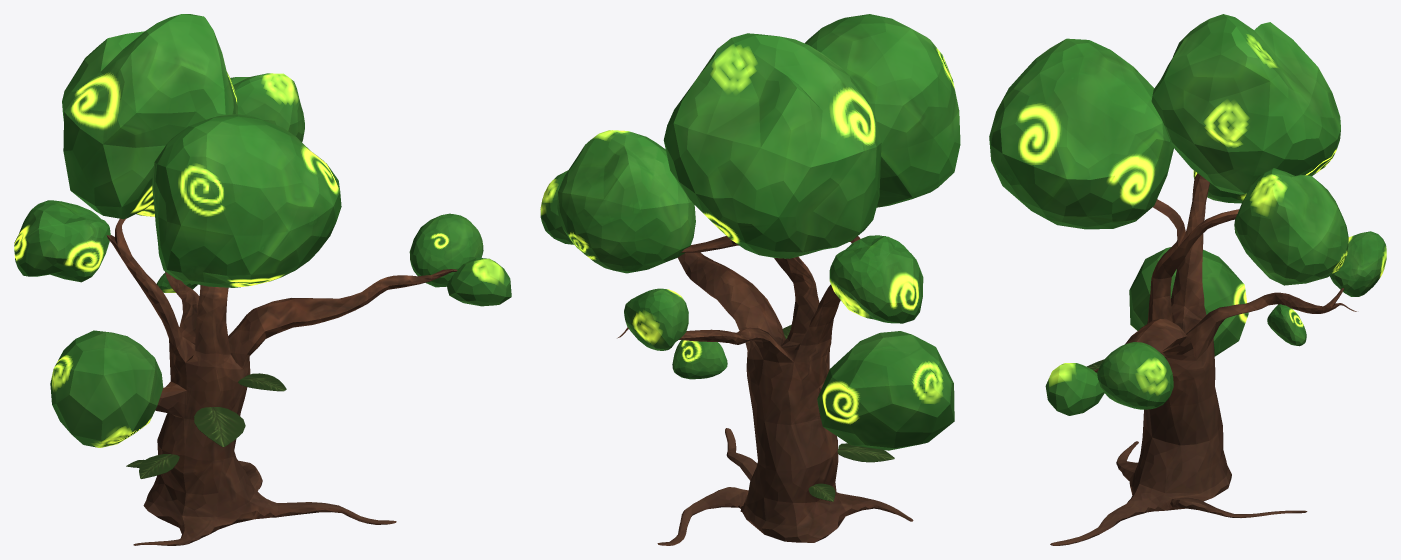
The model's file is fantasy_tree.glb.
3 renders of one model, left to right at view 1: azimuth 30°, elevation 25°; view 2: azimuth 150°, elevation 25°; view 3: azimuth 270°, elevation 25°, orthographic. The views are drawn at different scales.
Parts seen in each view (by area): view 1: Icosphere, Tree, Plane.003; view 2: Icosphere, Tree, Plane.003; view 3: Icosphere, Tree.
Boxes of the visible parts, x1=… form: Icosphere: x1=14, y1=14, x2=511, y2=447; Tree: x1=106, y1=217, x2=457, y2=545; Plane.003: x1=126, y1=373, x2=286, y2=478; Icosphere: x1=540, y1=14, x2=960, y2=450; Tree: x1=617, y1=236, x2=913, y2=545; Plane.003: x1=782, y1=325, x2=894, y2=501; Icosphere: x1=989, y1=14, x2=1386, y2=415; Tree: x1=1050, y1=173, x2=1356, y2=545.
Bounding box in the file's own units: 58.57 × 65.52 × 50.66.
Materials: 3 (3 with a texture image).
